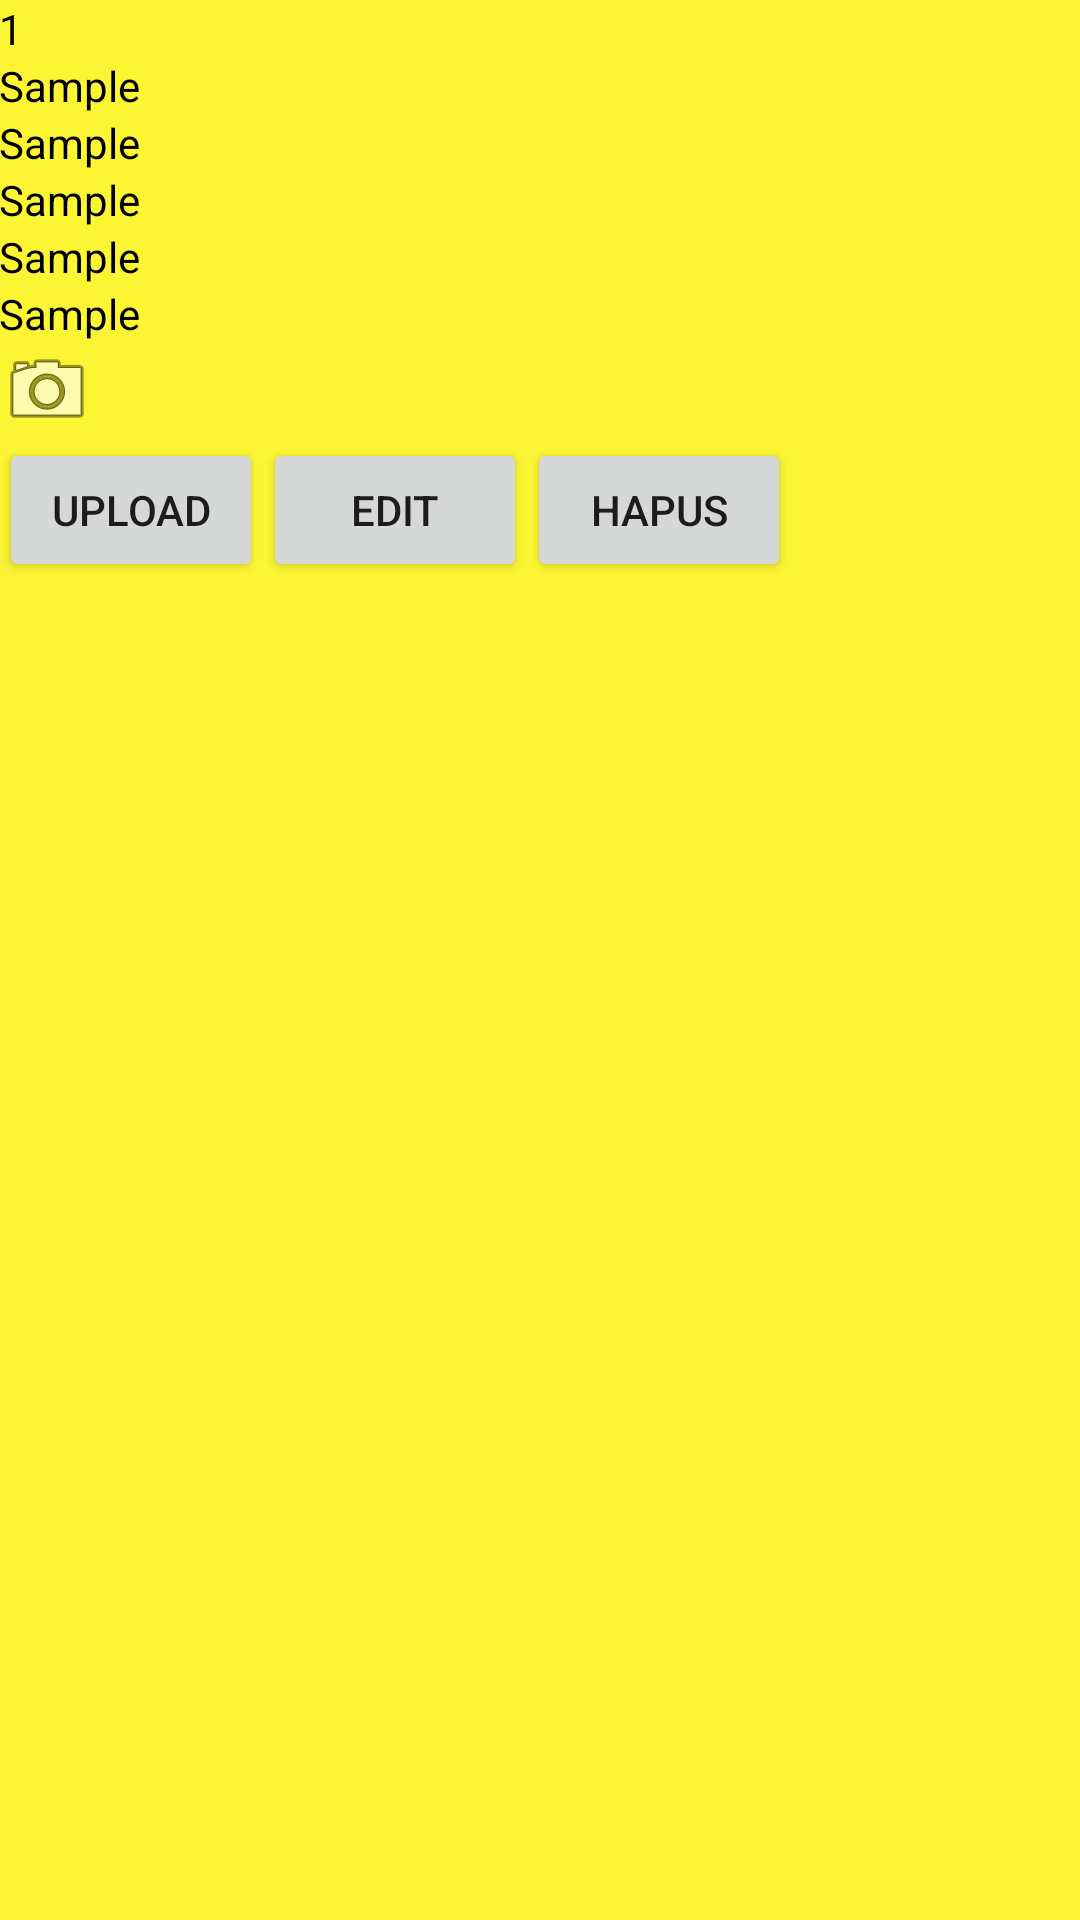

Named icons in this screenshot (1080×1920) and their bounding boxes, Rect(x1, y1, x2, y2):
camera: Rect(10, 359, 84, 418)
